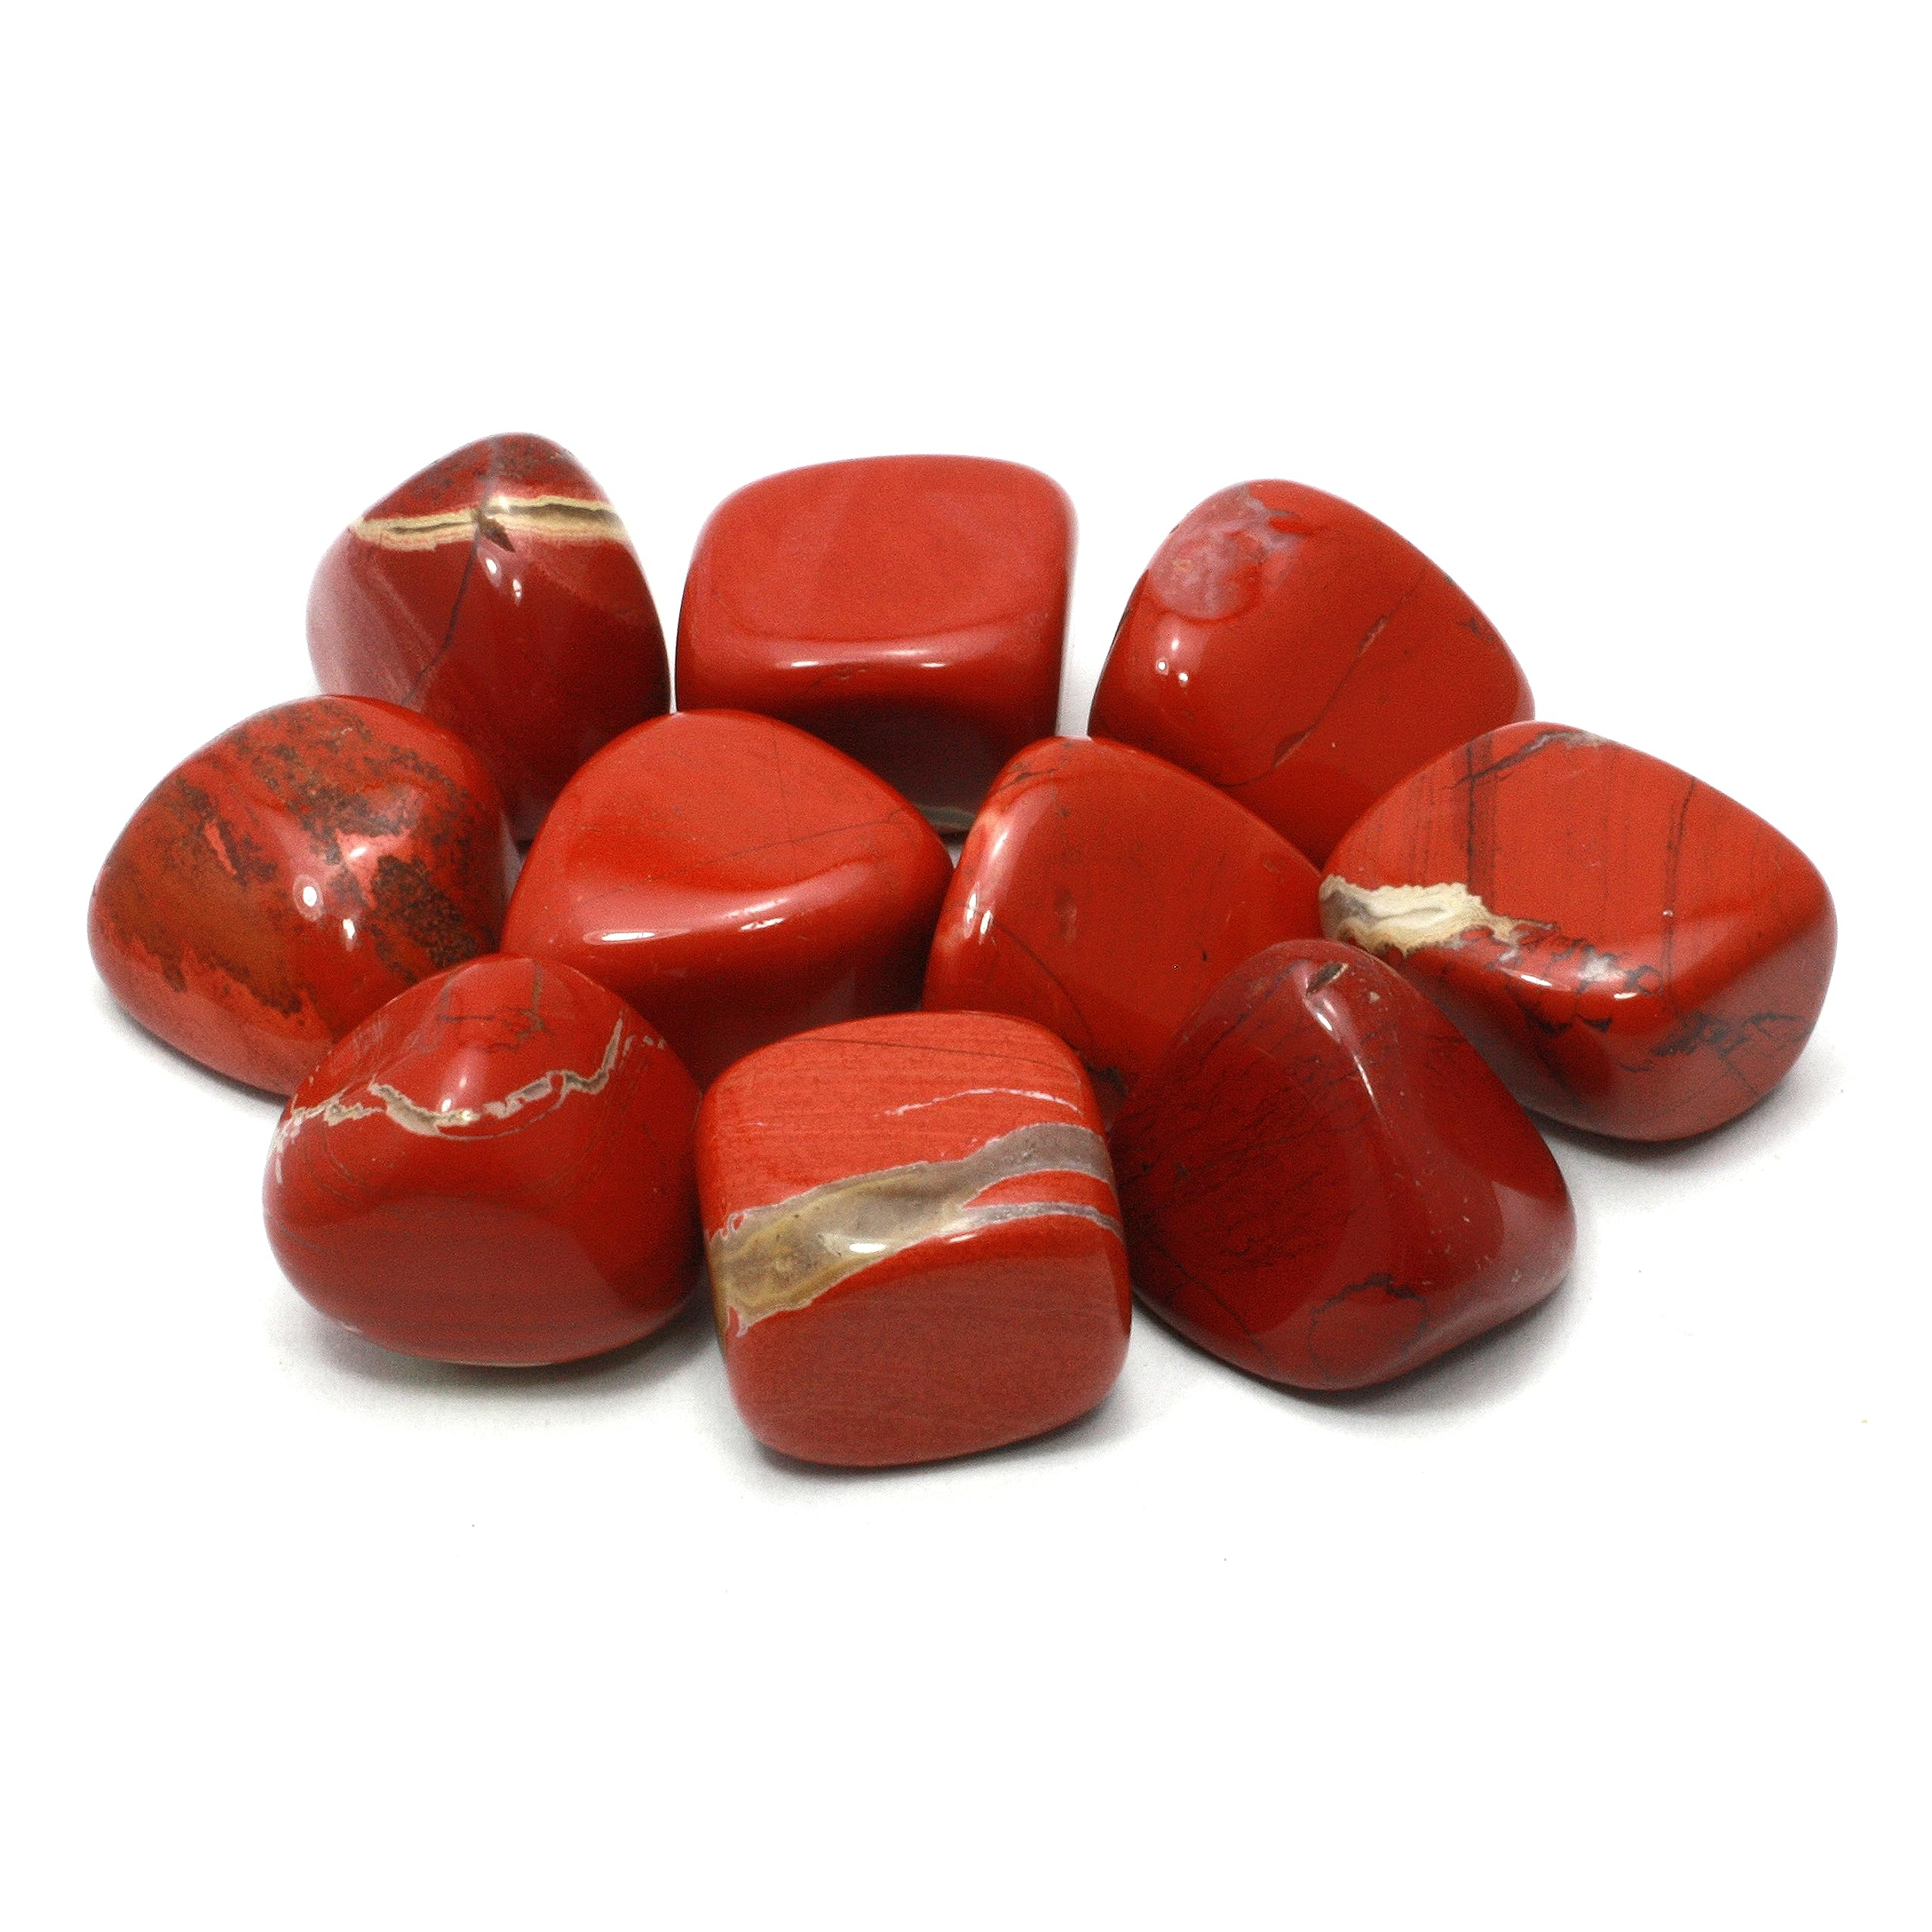Red_Jasper: (90, 430, 1831, 1467), (959, 1461, 975, 1468)
